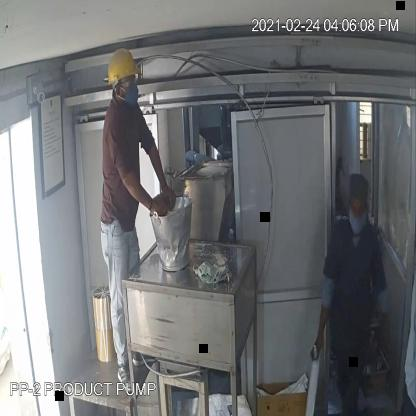helmet: (102, 41, 144, 88)
